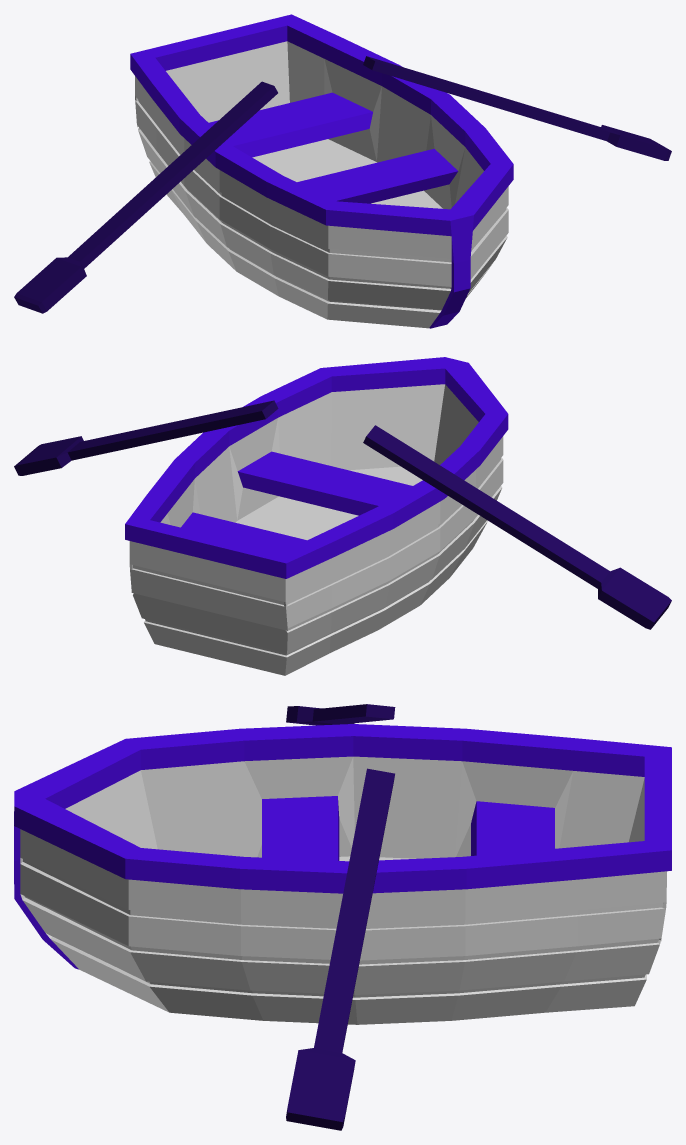
Rendered from BarcoNoAnimations2.fbx.
3 views of the same model, one above another, from view 1: azimuth 30°, elevation 25°; view 2: azimuth 150°, elevation 25°; view 3: azimuth 270°, elevation 25° (orthographic). The views are drawn at different scales.
Visible parts, largest first — view 1: Cube, Remo 1.001, Remo 1; view 2: Cube, Remo 1.001, Remo 1; view 3: Cube, Remo 1, Remo 1.001.
Part boxes in pixels (bbox=[...]): Cube: bbox=[130, 14, 513, 328]; Remo 1.001: bbox=[14, 81, 277, 313]; Remo 1: bbox=[363, 56, 671, 160]; Cube: bbox=[125, 357, 508, 675]; Remo 1.001: bbox=[363, 425, 671, 629]; Remo 1: bbox=[14, 400, 278, 475]; Cube: bbox=[14, 724, 671, 1024]; Remo 1: bbox=[286, 768, 394, 1130]; Remo 1.001: bbox=[286, 704, 395, 725].
Size of the model in its own units: 489 by 126 by 332.
